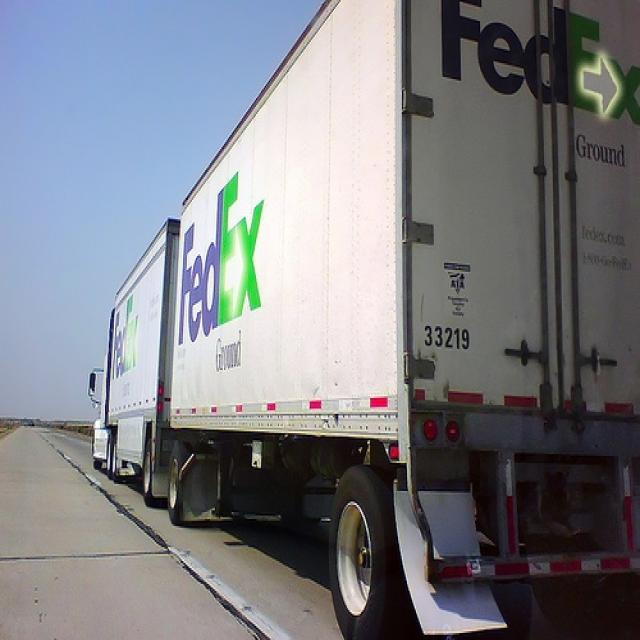fedex: (439, 3, 640, 129), (179, 173, 271, 348), (111, 298, 144, 382)
